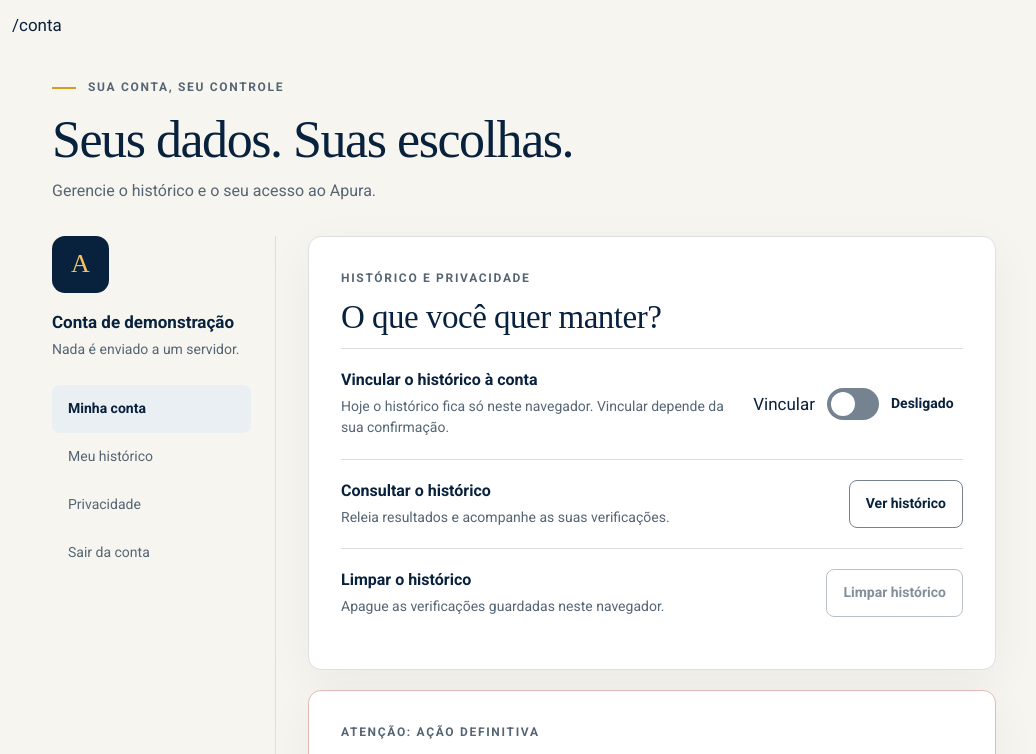
Test: com sessão › "Sair da conta" encerra a sessão, avisa e volta ao início
Step 1. Click the button "Sair da conta" → (152, 553), box [52,529,251,577]
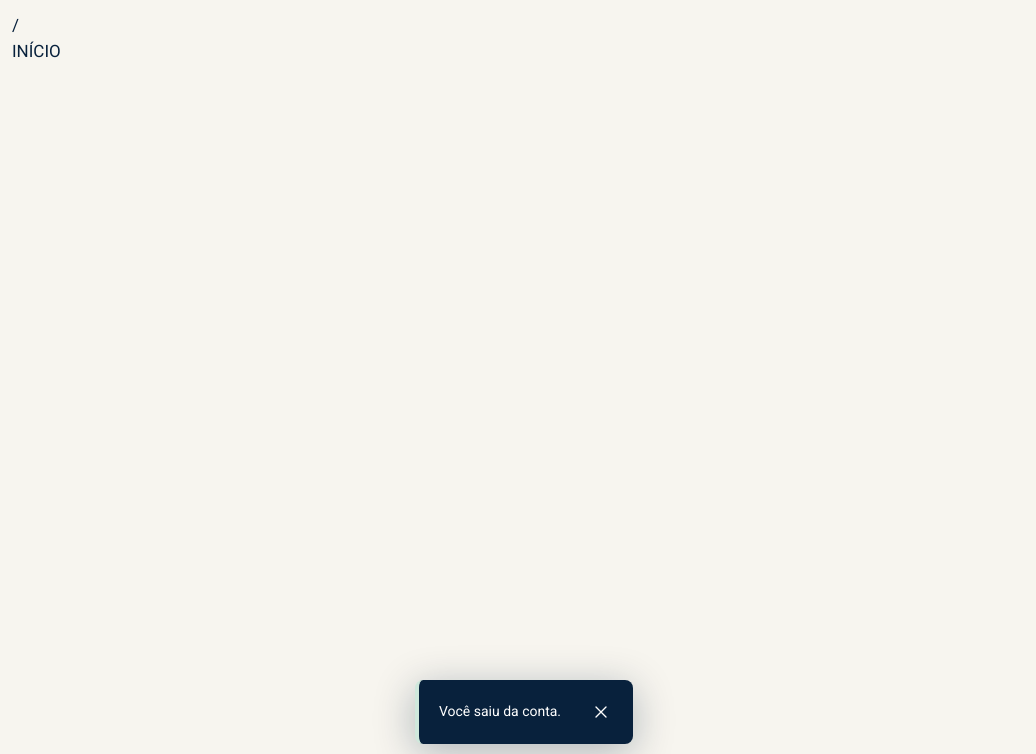
Now the text "Você saiu da conta." is shown, box [439,703,561,719]
